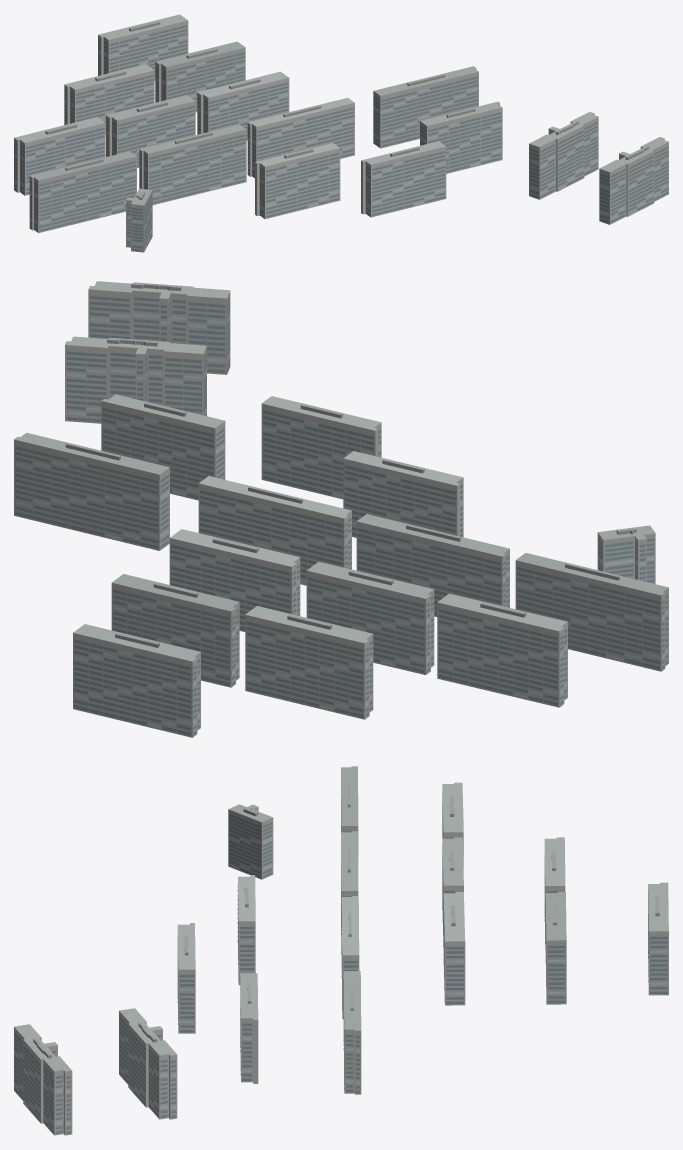
Rendered from apt-a13984005.glb.
3 views of the same model, one above another, from view 1: azimuth 30°, elevation 25°; view 2: azimuth 150°, elevation 25°; view 3: azimuth 270°, elevation 25° (orthographic). The views are drawn at different scales.
Visible parts, largest first — view 1: apt-a13984005; view 2: apt-a13984005; view 3: apt-a13984005.
Part boxes in pixels (x1,y1,x2,y2): apt-a13984005: (14,14,668,252); apt-a13984005: (14,281,668,737); apt-a13984005: (14,766,668,1135).
Bounding box in the file's own units: 437 × 44.62 × 396.
